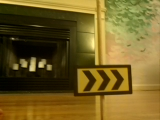right: (74, 65, 132, 94)
